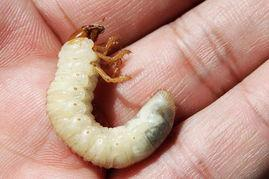grub: (46, 18, 177, 167)
